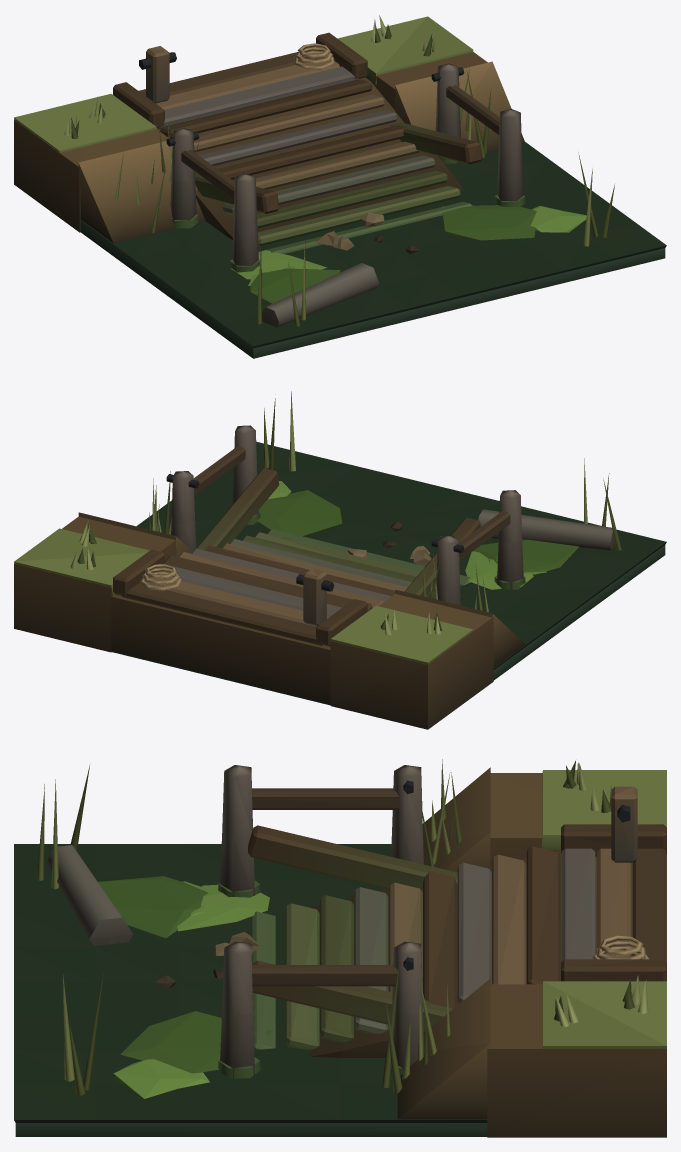
Rendered from boat-launch-ramp-tile.glb.
The picture shows the model from 3 angles, top to bottom: view 1: azimuth 30°, elevation 25°; view 2: azimuth 150°, elevation 25°; view 3: azimuth 270°, elevation 25°; orthographic projection. The views are drawn at different scales.
Parts seen in each view (by area): view 1: boat_launch_ramp_tile; view 2: boat_launch_ramp_tile; view 3: boat_launch_ramp_tile.
Boxes of the visible parts, <box> form: boat_launch_ramp_tile: <box>14,15,666,358</box>; boat_launch_ramp_tile: <box>14,391,666,729</box>; boat_launch_ramp_tile: <box>14,759,666,1137</box>.
Size of the model in its own units: 4 by 1.1 by 4.
